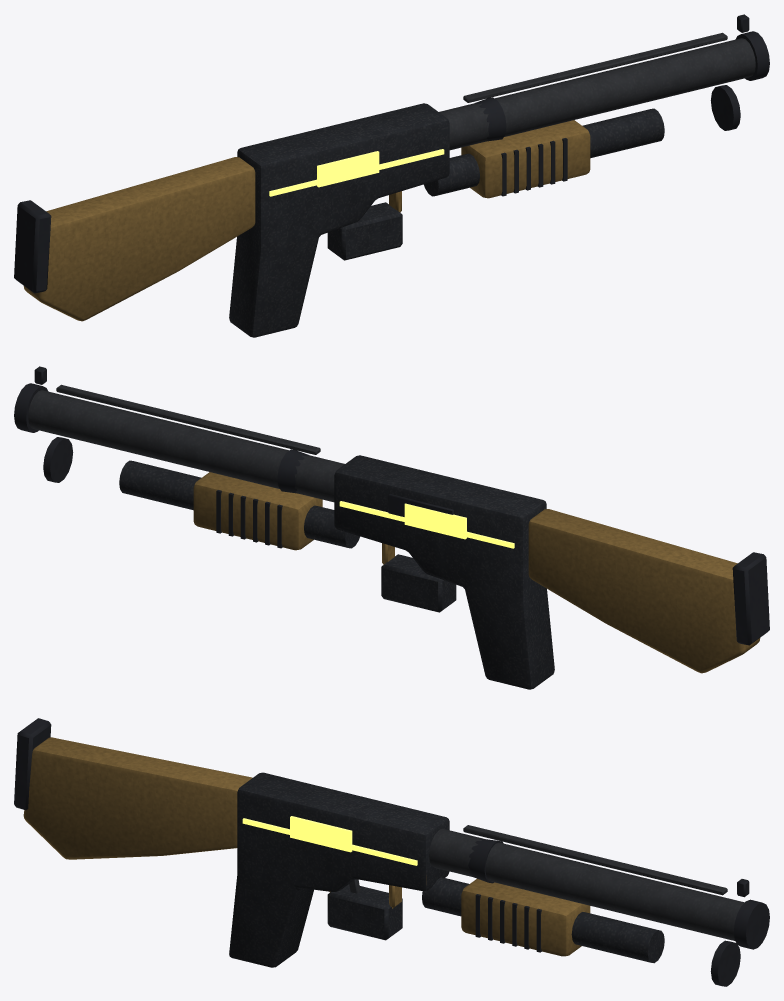
File: shotgun_r4.fbx
3 renders of one model, top to bottom at view 1: azimuth 30°, elevation 25°; view 2: azimuth 150°, elevation 25°; view 3: azimuth 330°, elevation 25°, orthographic.
Parts seen in each view (by area): view 1: Body, Slide, Magazine, Glow; view 2: Body, Slide, Magazine, Glow; view 3: Body, Slide, Magazine, Glow.
Part boxes in pixels (x1=…): Body: x1=14, y1=14, x2=769, y2=337; Slide: x1=461, y1=120, x2=590, y2=198; Magazine: x1=327, y1=202, x2=402, y2=260; Glow: x1=269, y1=149, x2=444, y2=196; Body: x1=14, y1=366, x2=769, y2=689; Slide: x1=193, y1=472, x2=322, y2=550; Magazine: x1=381, y1=554, x2=456, y2=612; Glow: x1=339, y1=501, x2=514, y2=548; Body: x1=14, y1=718, x2=769, y2=986; Slide: x1=461, y1=878, x2=590, y2=956; Magazine: x1=327, y1=884, x2=402, y2=940; Glow: x1=242, y1=816, x2=417, y2=865.
Bounding box in the file's own units: 8.46 × 2.11 × 0.57.
2 materials, 1 textured.
